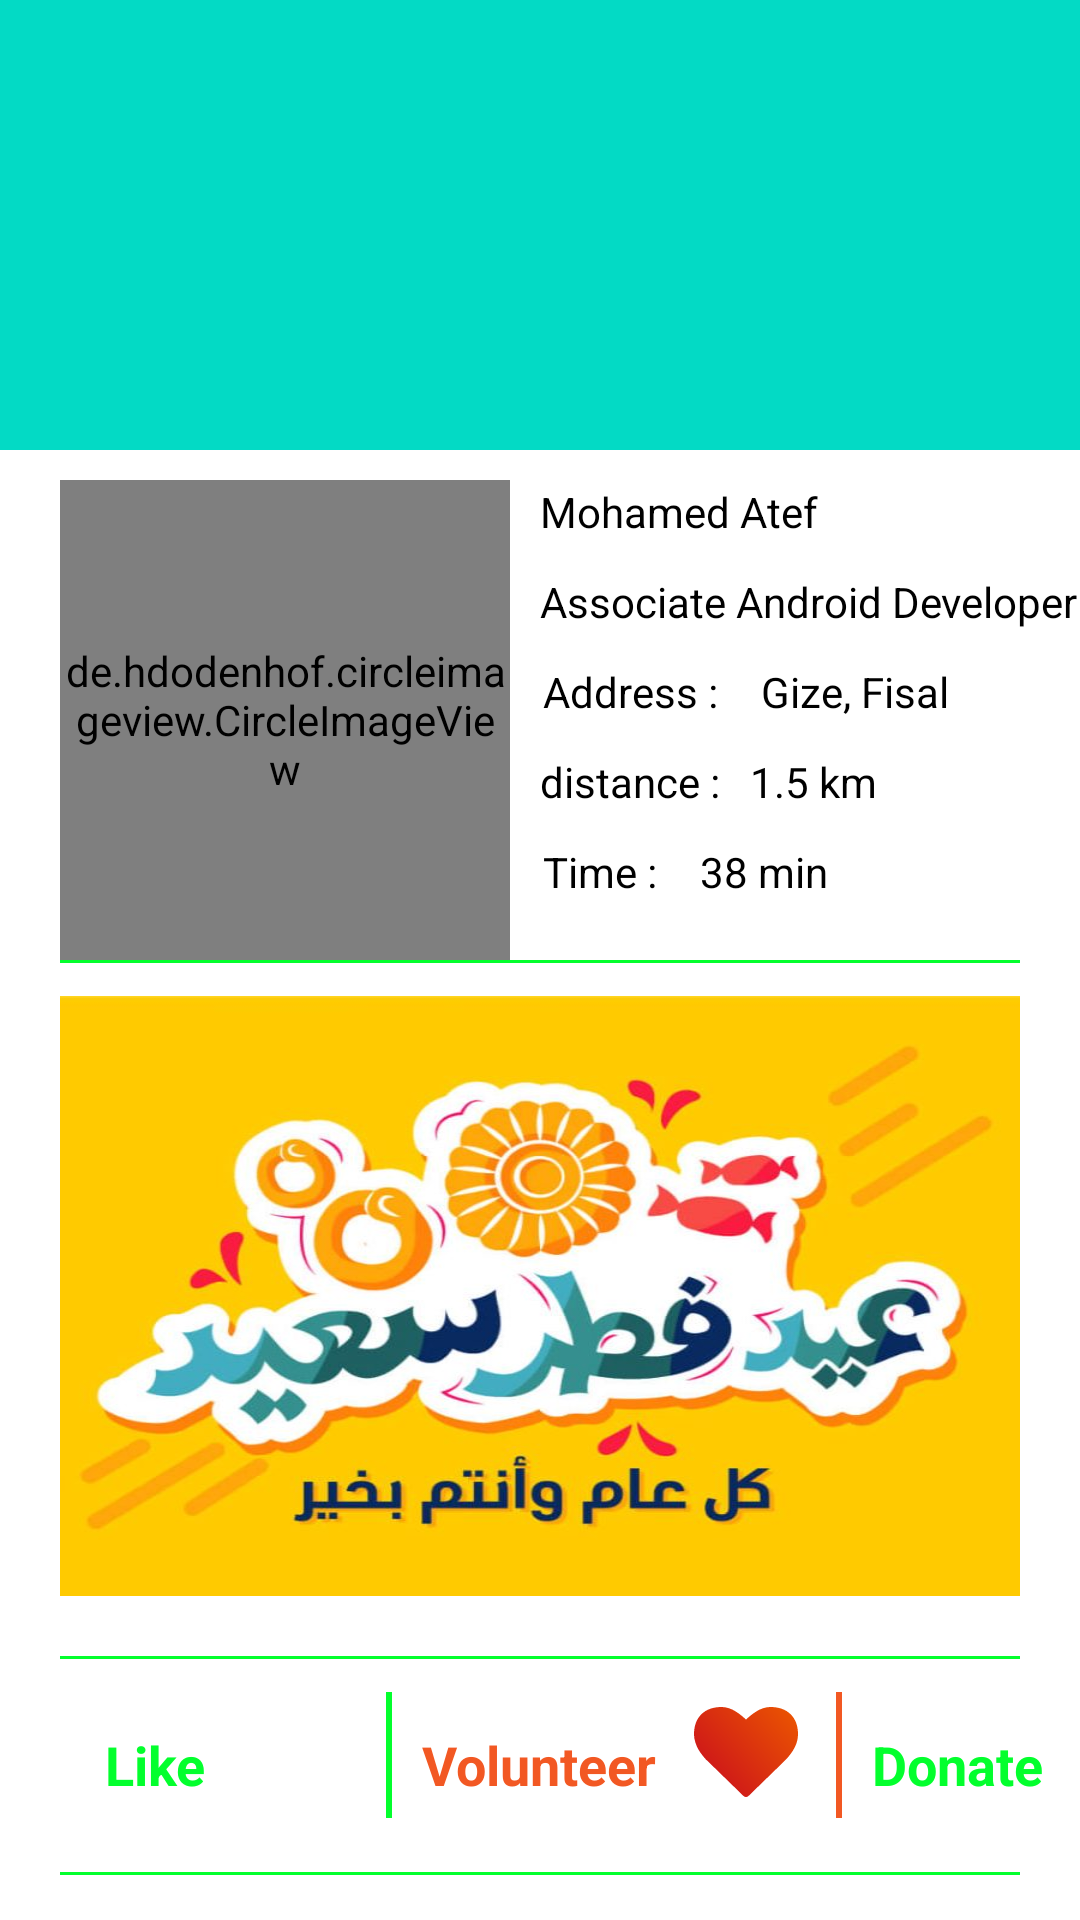

Where icons sit on this 1080px×1920px app screen, as box=[x1, y1, x2, y2]:
love: box=[694, 1707, 798, 1797]
